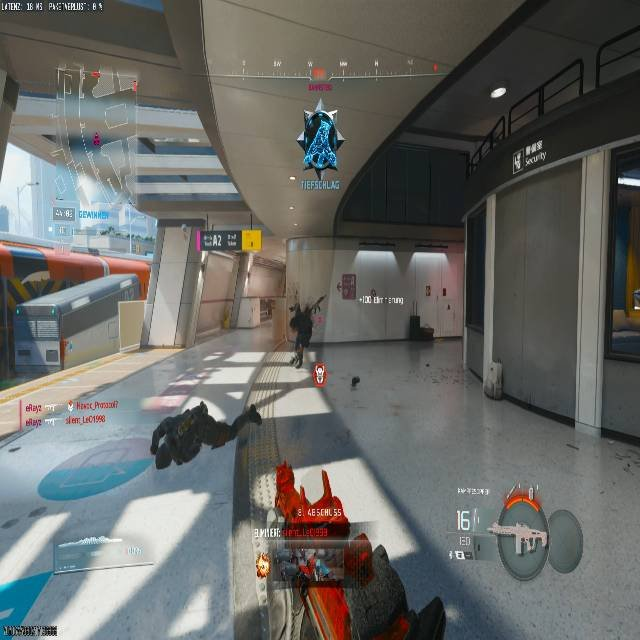player: (298, 108, 341, 171), (288, 304, 314, 369)
